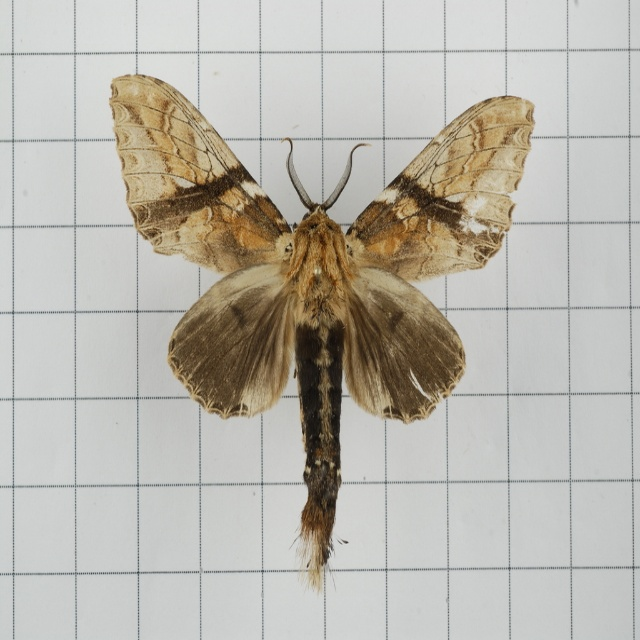Butterfly: (97, 79, 538, 511)
